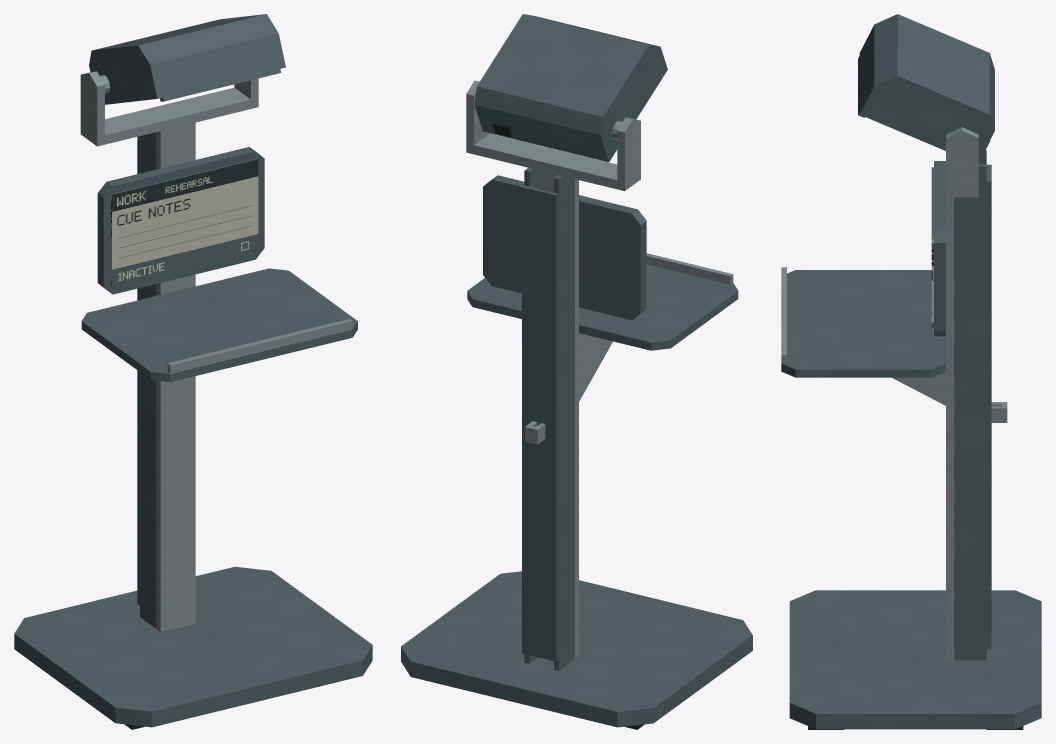
Rendered from AST-CUL-004_aimed.glb.
3 views of the same model, side by side, from view 1: azimuth 30°, elevation 25°; view 2: azimuth 150°, elevation 25°; view 3: azimuth 270°, elevation 25° (orthographic).
Parts seen in each view (by area): view 1: AST-CUL-004__static__staff_bluegrey_paint, AST-CUL-004__static__staff_zinc, AST-CUL-004__static__original_rehearsal_notes, AST-CUL-004__LIGHT_AIM_X__staff_bluegrey_paint, AST-CUL-004__REAR_COVER_REMOVE__staff_bluegrey_paint; view 2: AST-CUL-004__static__staff_bluegrey_paint, AST-CUL-004__LIGHT_AIM_X__staff_bluegrey_paint, AST-CUL-004__REAR_COVER_REMOVE__staff_bluegrey_paint, AST-CUL-004__static__staff_zinc; view 3: AST-CUL-004__static__staff_bluegrey_paint, AST-CUL-004__LIGHT_AIM_X__staff_bluegrey_paint, AST-CUL-004__static__staff_zinc, AST-CUL-004__REAR_COVER_REMOVE__staff_bluegrey_paint, AST-CUL-004__static__original_rehearsal_notes.
Part boxes in pixels (x1,y1,x2,y2): AST-CUL-004__static__staff_bluegrey_paint: (14,132,372,727); AST-CUL-004__static__staff_zinc: (80,71,352,631); AST-CUL-004__static__original_rehearsal_notes: (111,158,258,288); AST-CUL-004__LIGHT_AIM_X__staff_bluegrey_paint: (89,14,285,104); AST-CUL-004__REAR_COVER_REMOVE__staff_bluegrey_paint: (137,136,139,605); AST-CUL-004__static__staff_bluegrey_paint: (401,168,752,727); AST-CUL-004__LIGHT_AIM_X__staff_bluegrey_paint: (474,14,667,161); AST-CUL-004__REAR_COVER_REMOVE__staff_bluegrey_paint: (522,185,558,661); AST-CUL-004__static__staff_zinc: (466,80,733,658); AST-CUL-004__static__staff_bluegrey_paint: (781,150,1041,729); AST-CUL-004__LIGHT_AIM_X__staff_bluegrey_paint: (858,14,994,161); AST-CUL-004__static__staff_zinc: (781,127,978,660); AST-CUL-004__REAR_COVER_REMOVE__staff_bluegrey_paint: (986,164,991,649); AST-CUL-004__static__original_rehearsal_notes: (931,167,933,329).
Size of the model in its own units: 0.72 by 1.71 by 0.64.
5 materials, 5 textured.
